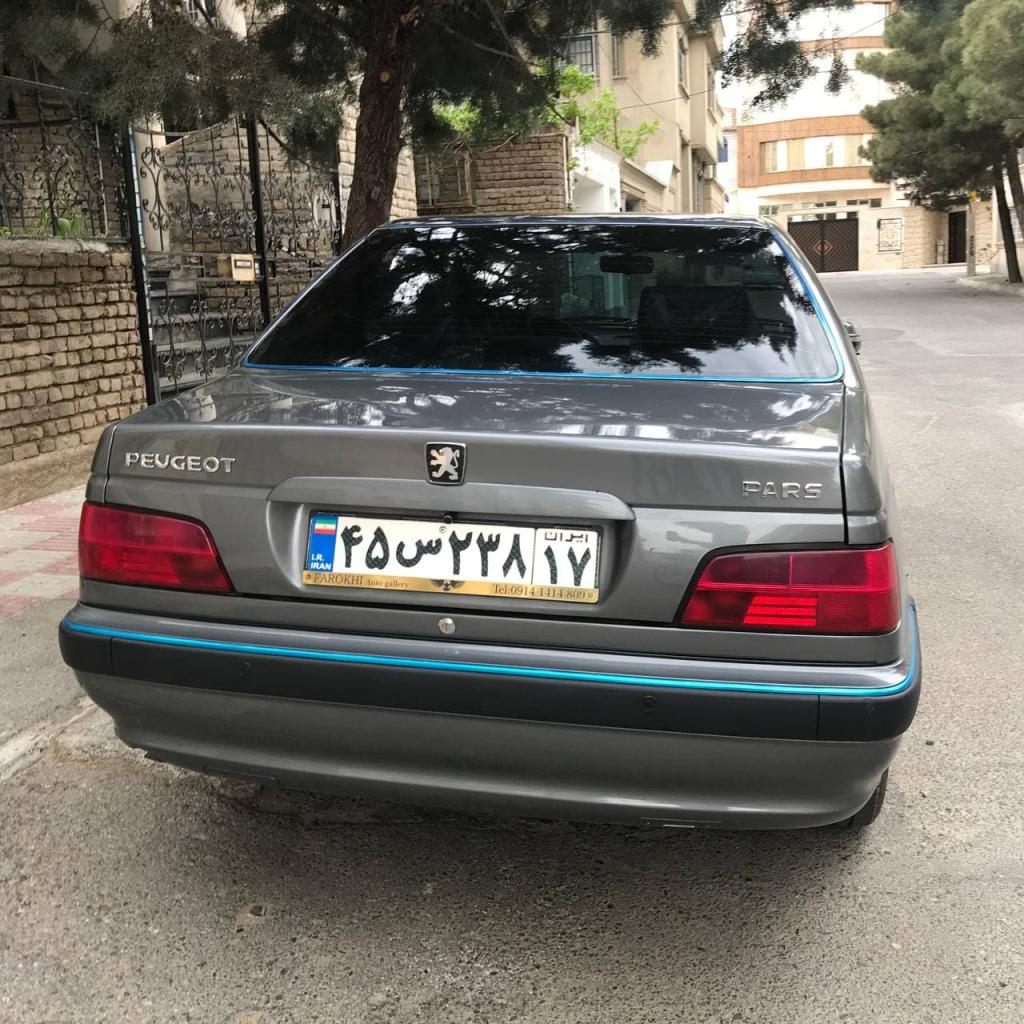Plates: (305, 515, 598, 588)
